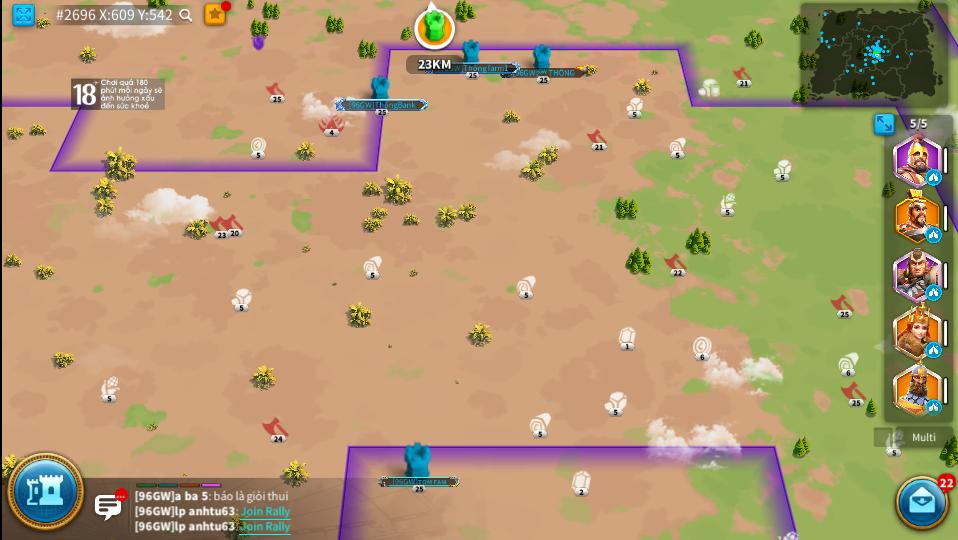gem-z-out: (571, 472, 592, 496), (618, 328, 636, 353)
march_idle: (925, 228, 942, 242), (926, 170, 940, 185), (927, 400, 941, 415), (926, 285, 940, 299), (928, 343, 940, 357)
